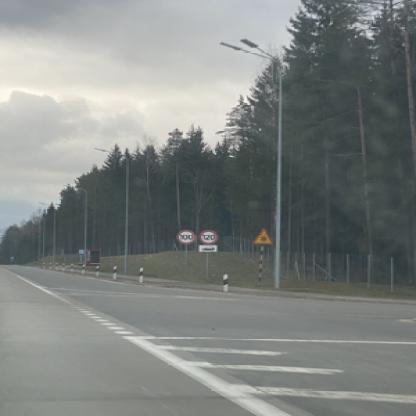speedlimit: (174, 228, 196, 243), (198, 230, 215, 242)
